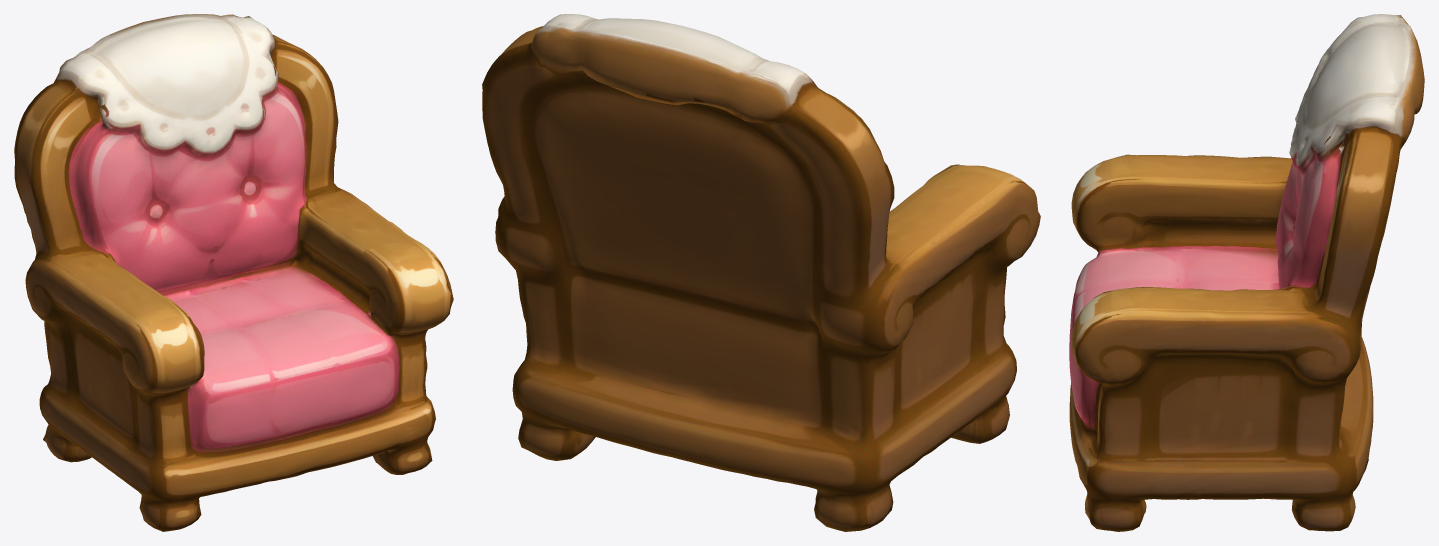
File: Wood_pink_chair.glb
3 renders of one model, left to right at view 1: azimuth 30°, elevation 25°; view 2: azimuth 150°, elevation 25°; view 3: azimuth 270°, elevation 25°, orthographic. The views are drawn at different scales.
Visible parts, largest first — view 1: RETOPO; view 2: RETOPO; view 3: RETOPO.
Boxes of the visible parts, x1=… form: RETOPO: x1=14, y1=14, x2=453, y2=531; RETOPO: x1=482, y1=14, x2=1040, y2=531; RETOPO: x1=1069, y1=14, x2=1424, y2=531.
Bounding box in the file's own units: 0.7346 × 0.8637 × 0.6667.
1 material, 1 textured.
